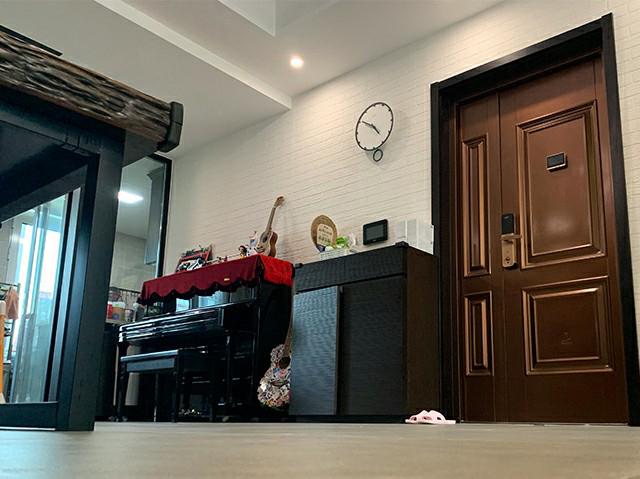cabinet: (288, 241, 441, 424)
slippers: (403, 409, 456, 424)
stool: (115, 347, 221, 426)
table: (1, 22, 184, 433)
